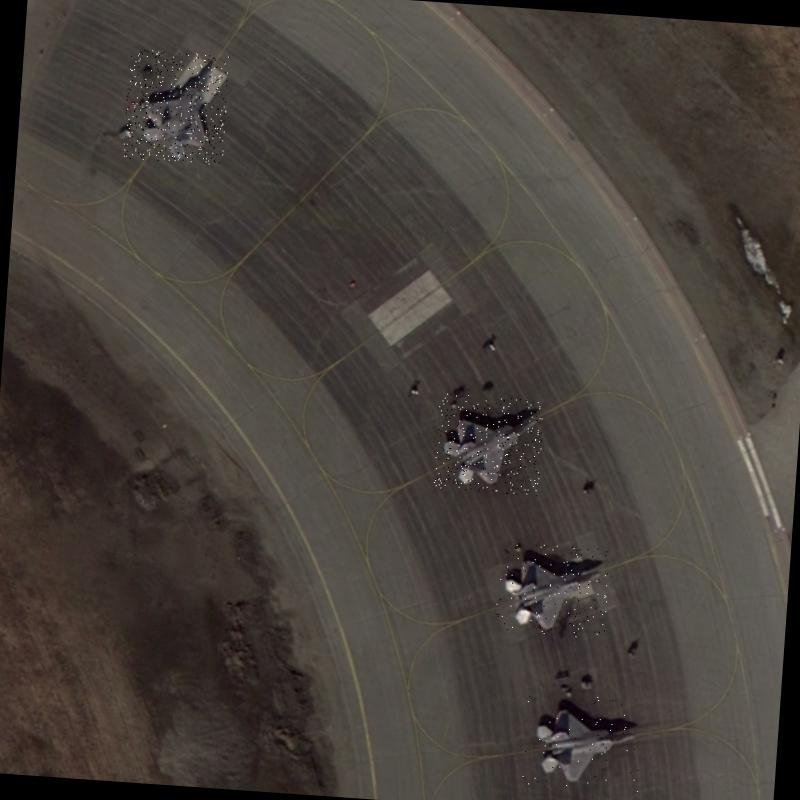A15: (123, 48, 230, 165), (522, 690, 644, 792), (493, 541, 611, 639), (433, 393, 544, 496)
